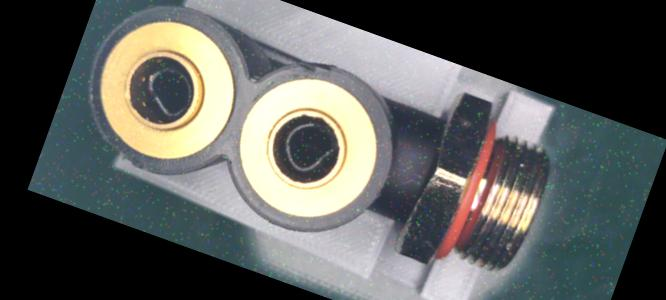bump: (288, 54, 340, 85), (107, 142, 148, 166)
joint line: (392, 162, 429, 180)
off-centered: (272, 111, 344, 182), (134, 56, 203, 122)
white mark: (397, 174, 417, 191)
